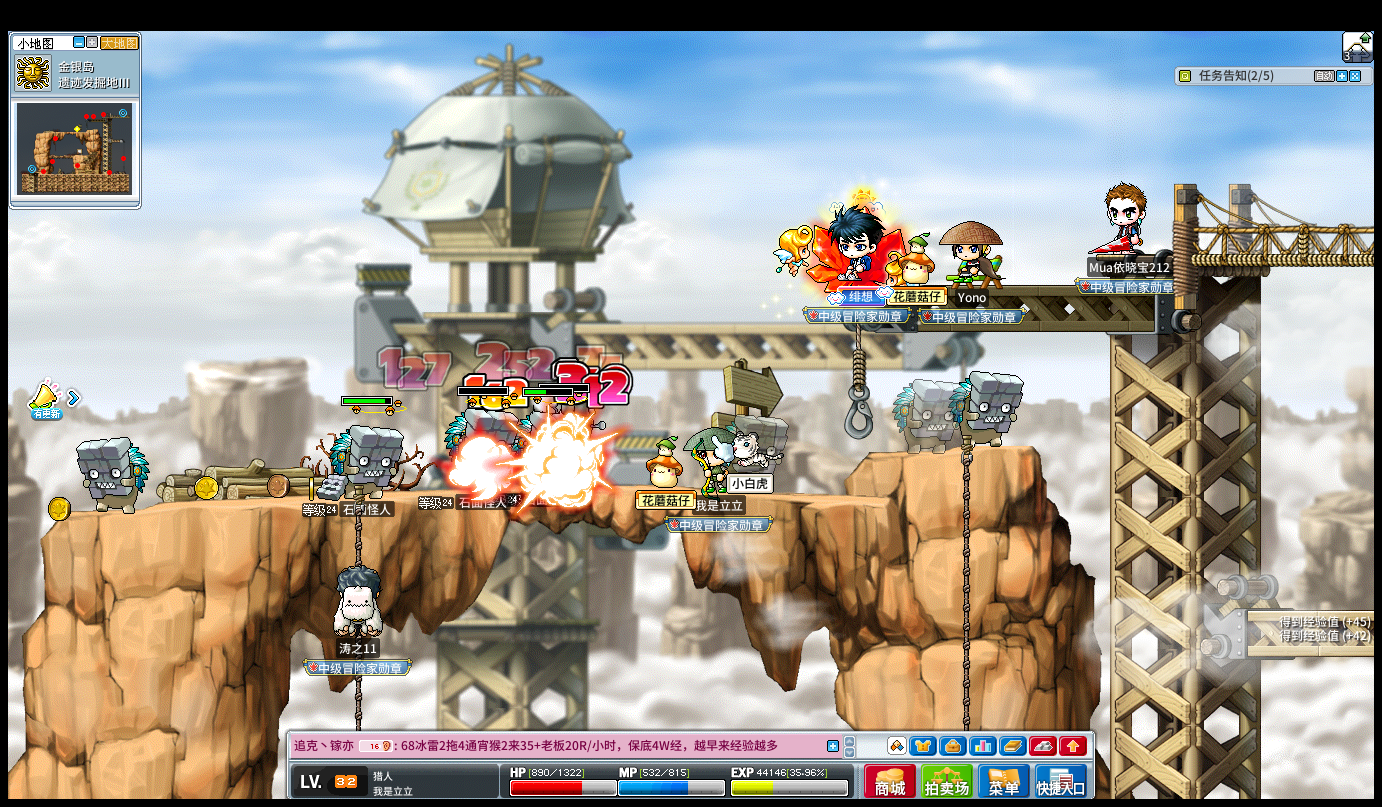floor: (49, 487, 717, 511), (53, 483, 474, 511), (54, 489, 825, 504), (154, 483, 914, 496), (1170, 218, 1375, 235), (862, 443, 1045, 460)
monster: (443, 406, 522, 491), (76, 436, 150, 514), (951, 370, 1025, 447), (331, 425, 402, 496), (892, 377, 955, 454)
rope: (958, 435, 973, 714), (353, 490, 364, 563)
